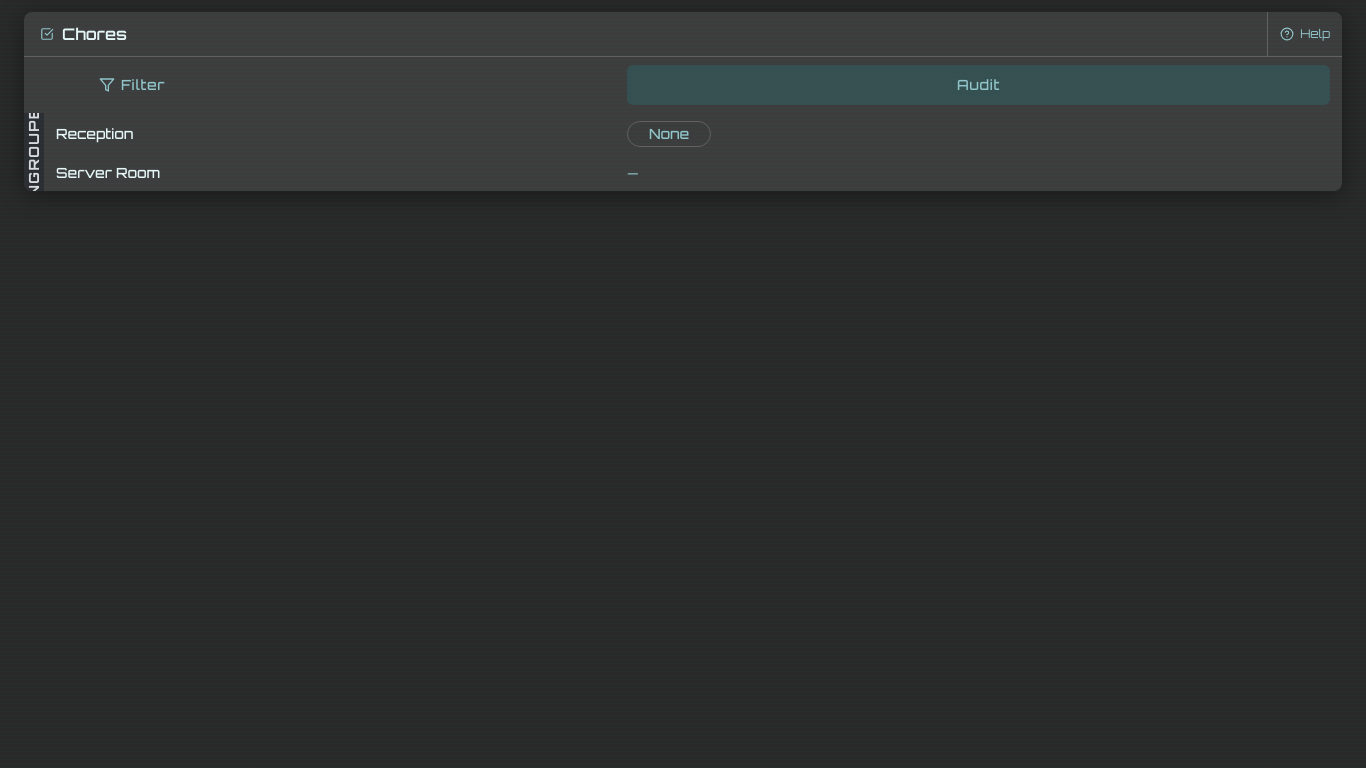
ChoreListsView – column header edit dialog › lets visitors click a header to read the description without editing
The image size is (1366, 768).
Step 1. Click the button "Audit" → (979, 85), box [627, 65, 1330, 105]
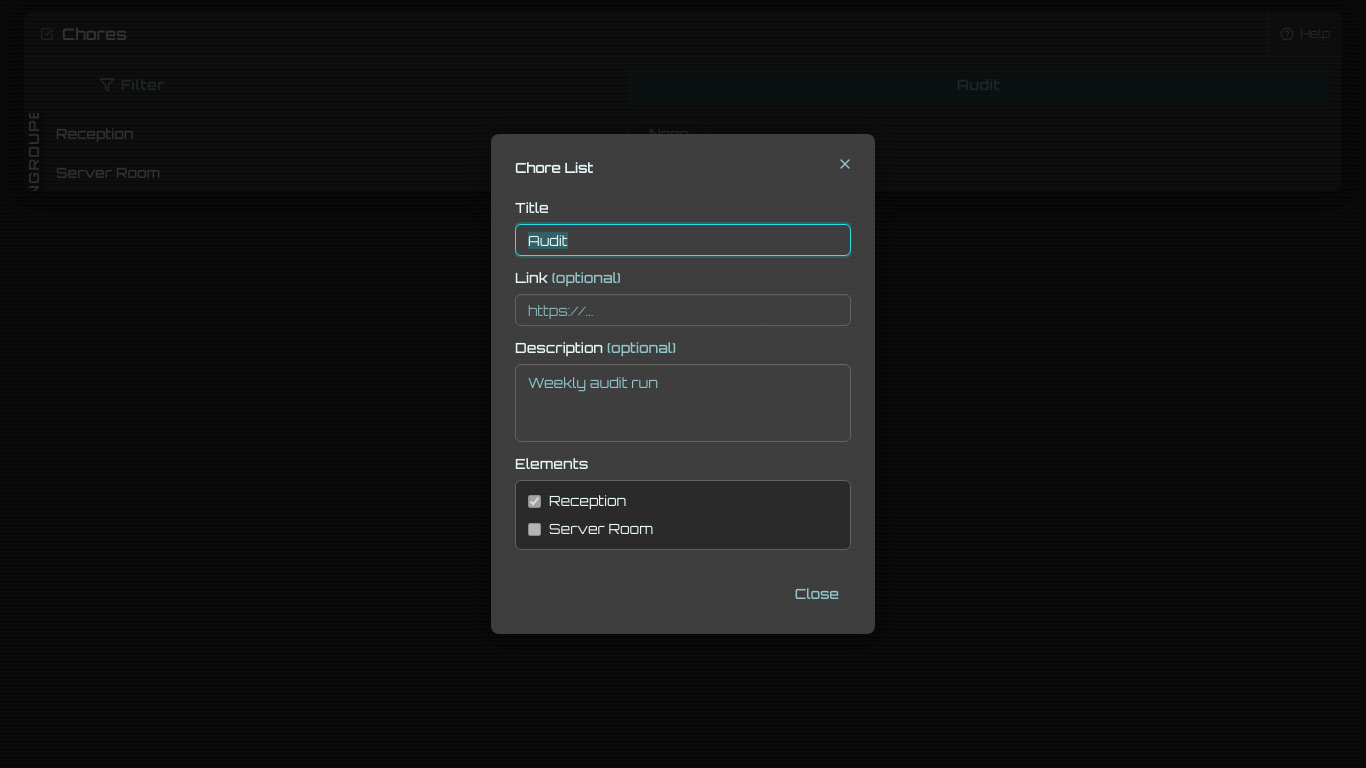
Result: the text box showing "Weekly audit run" is shown at [515, 364, 851, 442]
